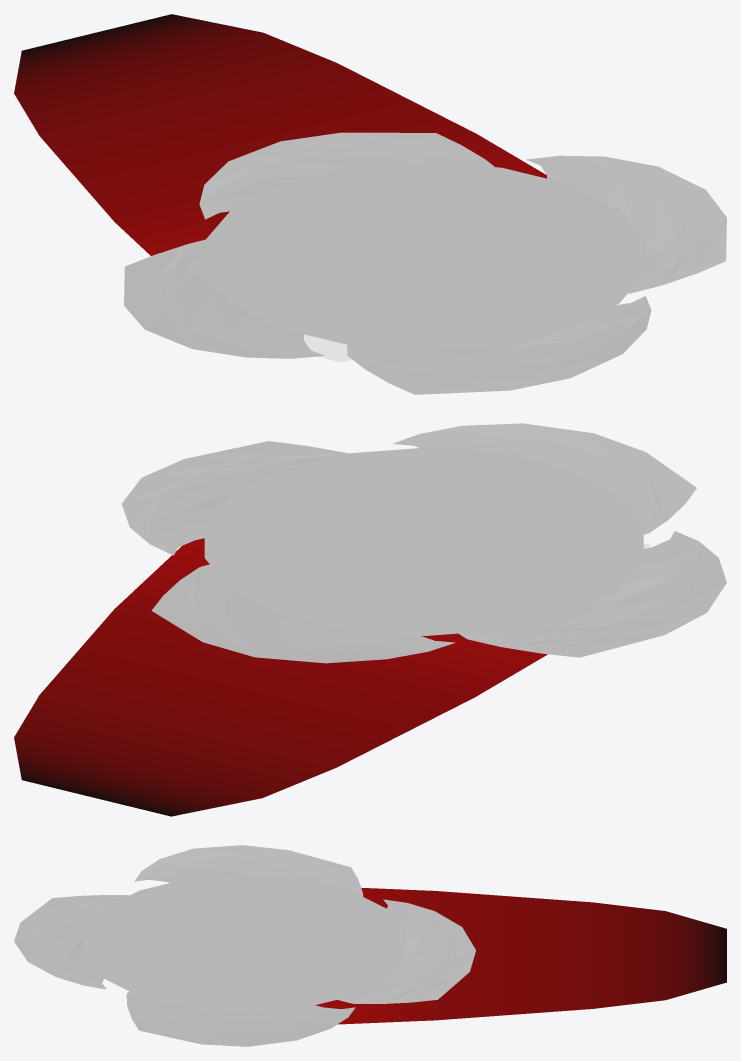
The model's file is pref_fx_froakie_natk_bullet03_lv3.fbx.
3 renders of one model, top to bottom at view 1: azimuth 30°, elevation 25°; view 2: azimuth 150°, elevation 25°; view 3: azimuth 270°, elevation 25°, orthographic. The views are drawn at different scales.
Visible parts, largest first — view 1: slj_02_bian (10)x, trailx, 1x; view 2: slj_02_bian (10)x, trailx, 1x; view 3: slj_02_bian (10)x, trailx, 1x.
Boxes of the visible parts, bbox=[...] form: slj_02_bian (10)x: bbox=[205, 162, 645, 350]; trailx: bbox=[14, 14, 546, 362]; 1x: bbox=[124, 132, 726, 394]; slj_02_bian (10)x: bbox=[204, 447, 643, 635]; trailx: bbox=[14, 538, 649, 816]; 1x: bbox=[121, 423, 726, 663]; slj_02_bian (10)x: bbox=[83, 874, 406, 1012]; trailx: bbox=[315, 888, 726, 1024]; 1x: bbox=[14, 845, 475, 1046].
Bounding box in the file's own units: 3.31 × 0.0939 × 4.94.
